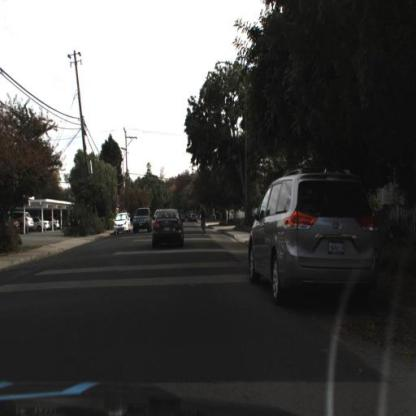biker: (198, 200, 210, 243), (200, 207, 210, 240)
car: (243, 163, 385, 321), (149, 205, 189, 249), (111, 206, 135, 241), (132, 203, 152, 240), (31, 214, 53, 237), (13, 213, 35, 235), (14, 209, 35, 230), (48, 209, 62, 233), (49, 216, 64, 236)
